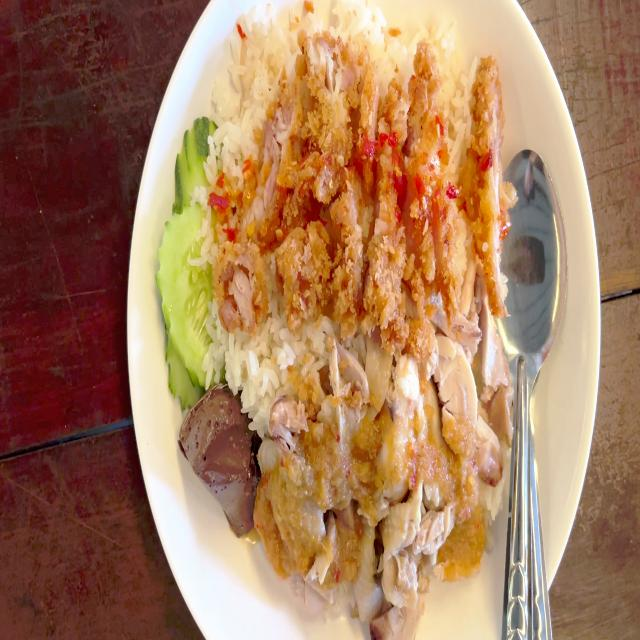boiled_chicken: (259, 326, 502, 601)
boiled_chicken_blood_jelly: (177, 385, 258, 533)
chicken_rice: (168, 0, 527, 620)
cucumber: (165, 120, 221, 404)
fried_chicken: (217, 40, 507, 345)
